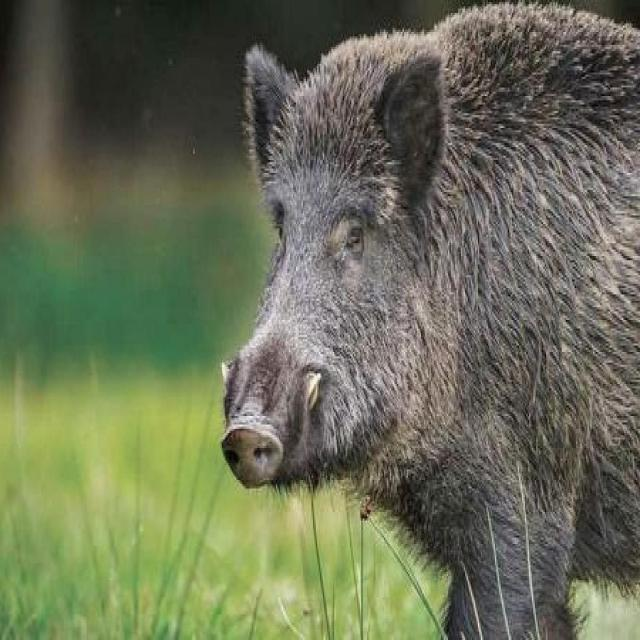Boar: (220, 18, 640, 595)
